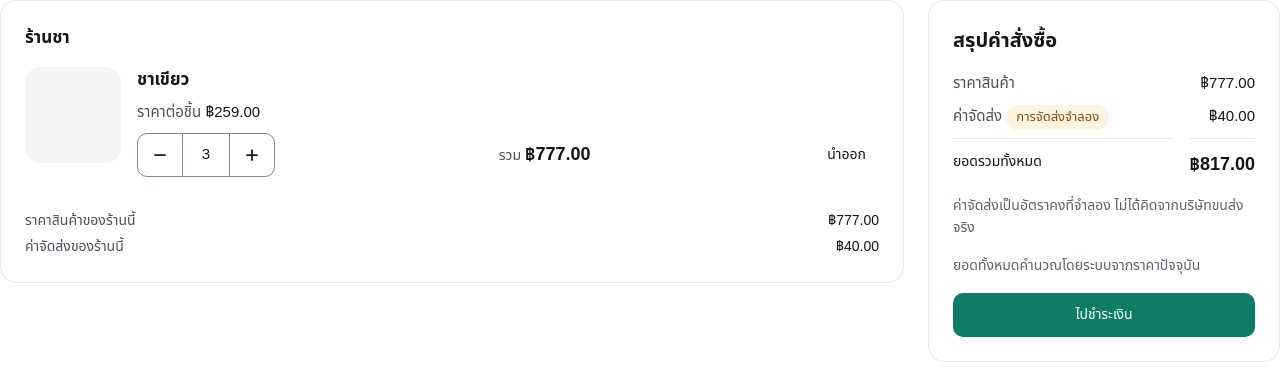
Test: CartView › shows the Thai copy of a refusal and refreshes on a conflict
Click the button named "เพิ่มจำนวน". click: click(252, 155)
box: [230,134,274,176]
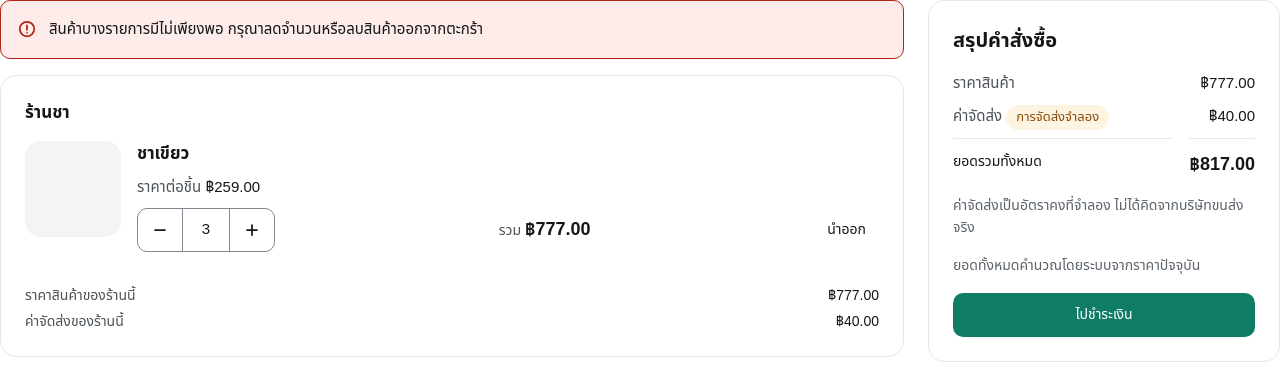
expect the text "สินค้าบางรายการมีไม่เพียงพอ กรุณาลดจำนวนหรือลบสินค้าออกจากตะกร้า" is shown: met, box [49,20,483,37]
